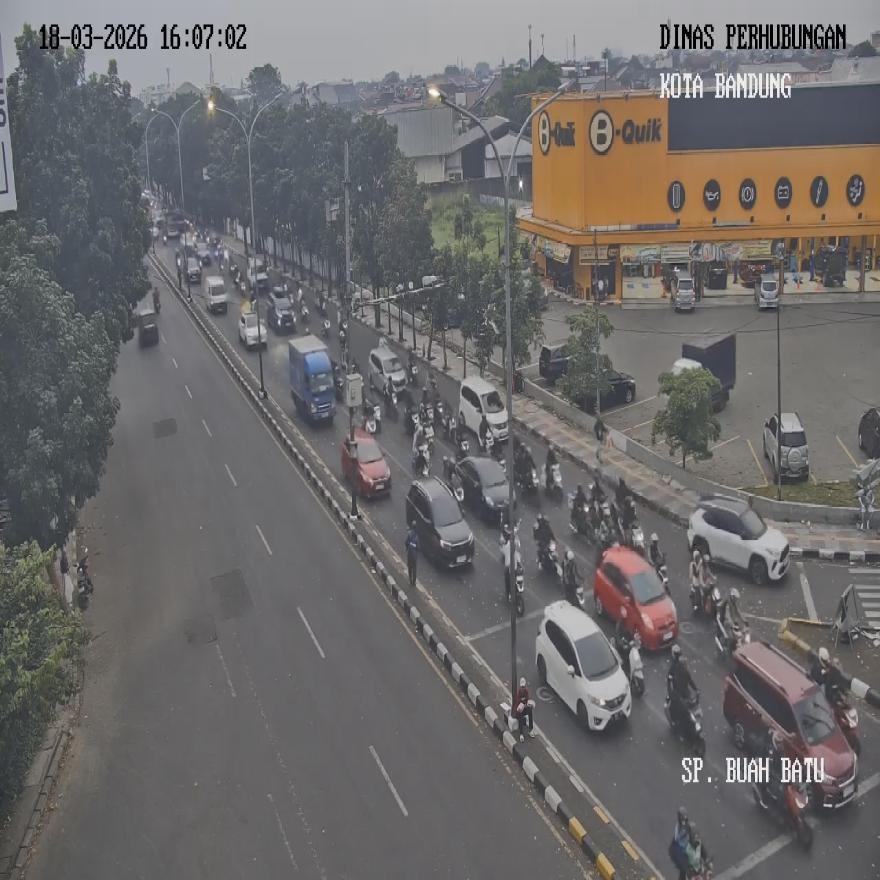Mobil: (722, 640, 858, 810), (534, 600, 633, 730), (685, 493, 790, 584), (406, 475, 474, 568), (763, 410, 809, 481)
Motor: (751, 778, 812, 850), (664, 688, 704, 760), (613, 624, 644, 696), (832, 689, 861, 753), (715, 617, 749, 661), (562, 549, 583, 607), (690, 579, 720, 618), (536, 532, 560, 580), (514, 444, 538, 492), (441, 454, 464, 504), (74, 548, 93, 608), (570, 489, 591, 539), (512, 696, 534, 741), (506, 562, 524, 614), (855, 485, 874, 532), (382, 378, 400, 422), (450, 418, 469, 458), (406, 524, 418, 586), (413, 436, 431, 476), (653, 551, 669, 595), (478, 419, 496, 457), (402, 397, 420, 435), (546, 461, 562, 500), (628, 520, 645, 552), (365, 402, 381, 435), (299, 302, 308, 335), (320, 314, 330, 336)
